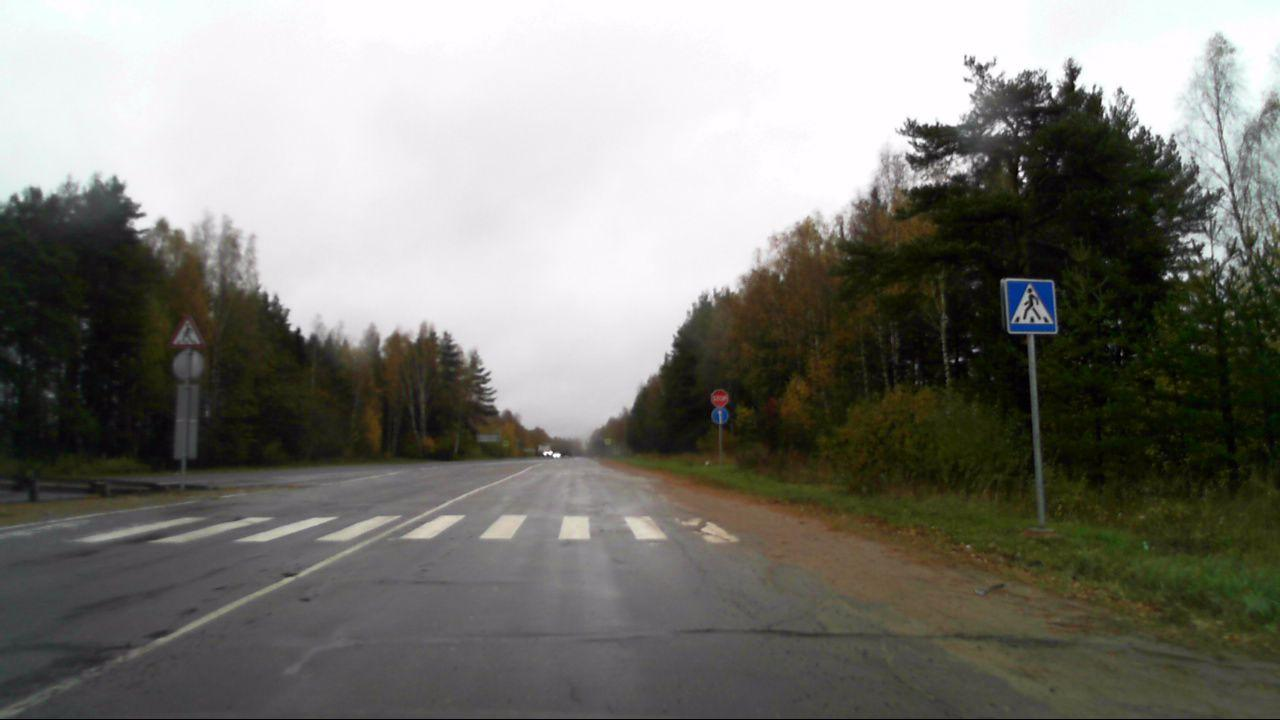1_22: (170, 316, 205, 350)
2_5: (711, 391, 730, 407)
4_1_1: (711, 406, 729, 424)
5_19_1: (1001, 276, 1059, 337)
